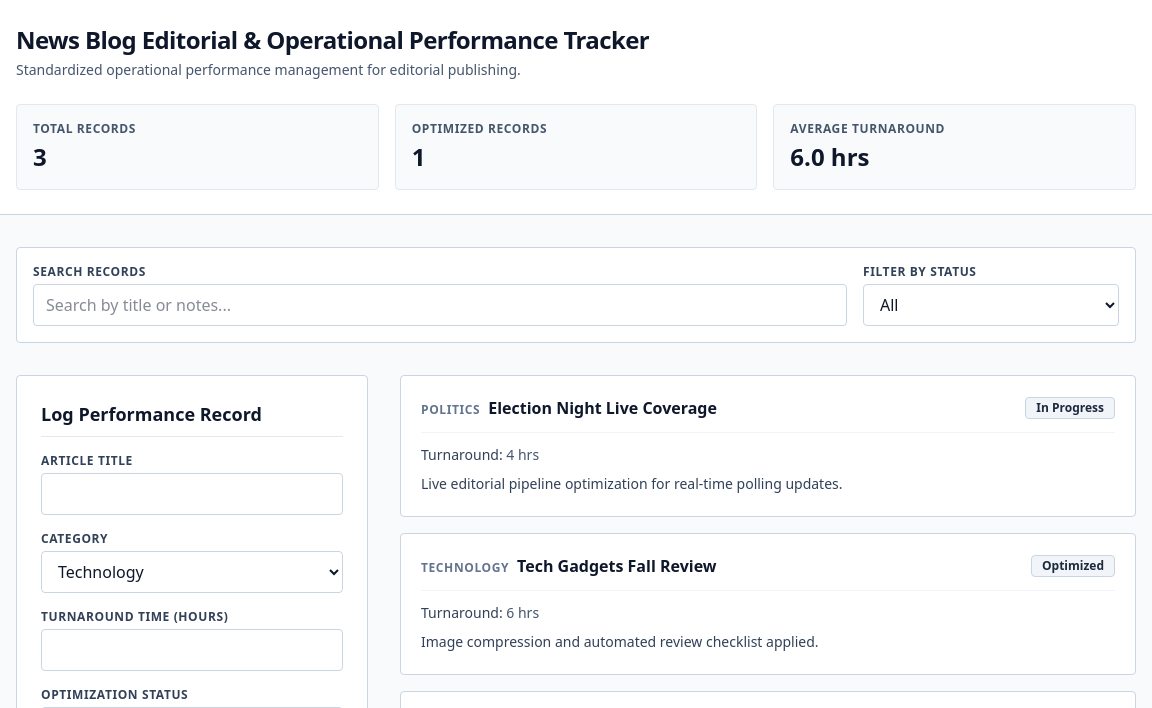
Test case: News Blog Performance Tracker Acceptance Tests › displays an accessible empty state and allows resetting filters
Type "NonExistentArticleKeyword12345" into the field labelled "Search Records" at (440, 305), box [33, 284, 847, 326]
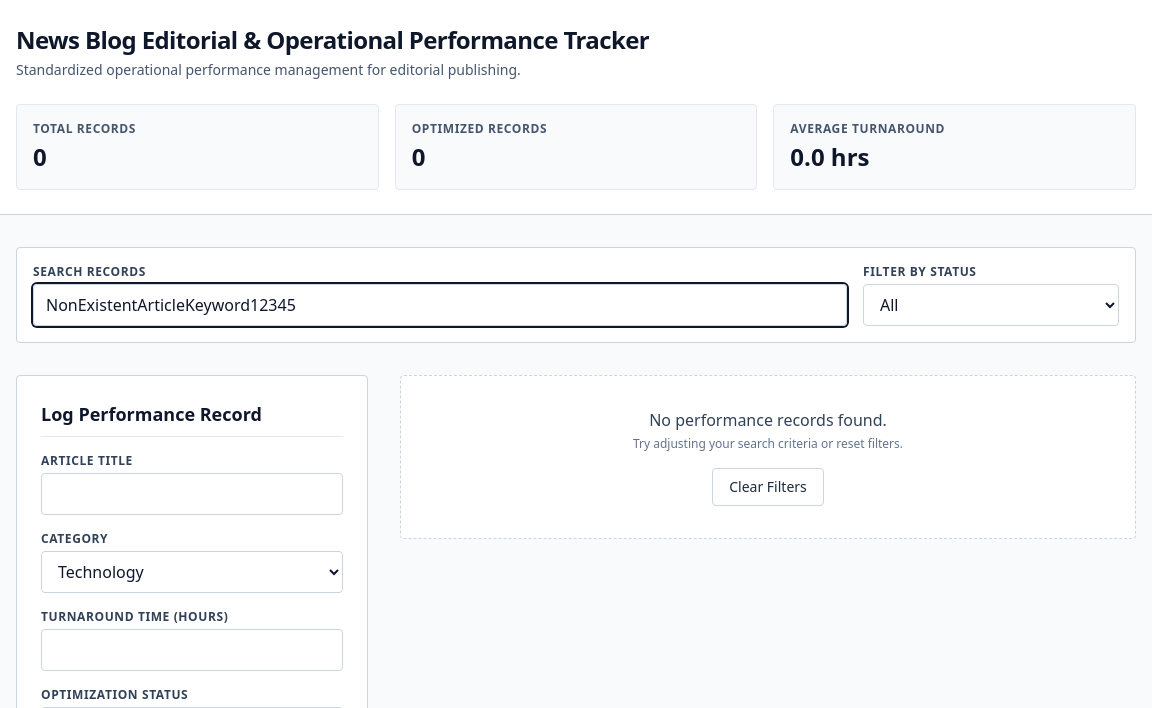
Check: the text "No performance records found." is shown, box [649, 409, 887, 431]
Check: the button "Clear Filters" is shown
Click the button "Clear Filters" at (768, 487), box [712, 468, 824, 506]
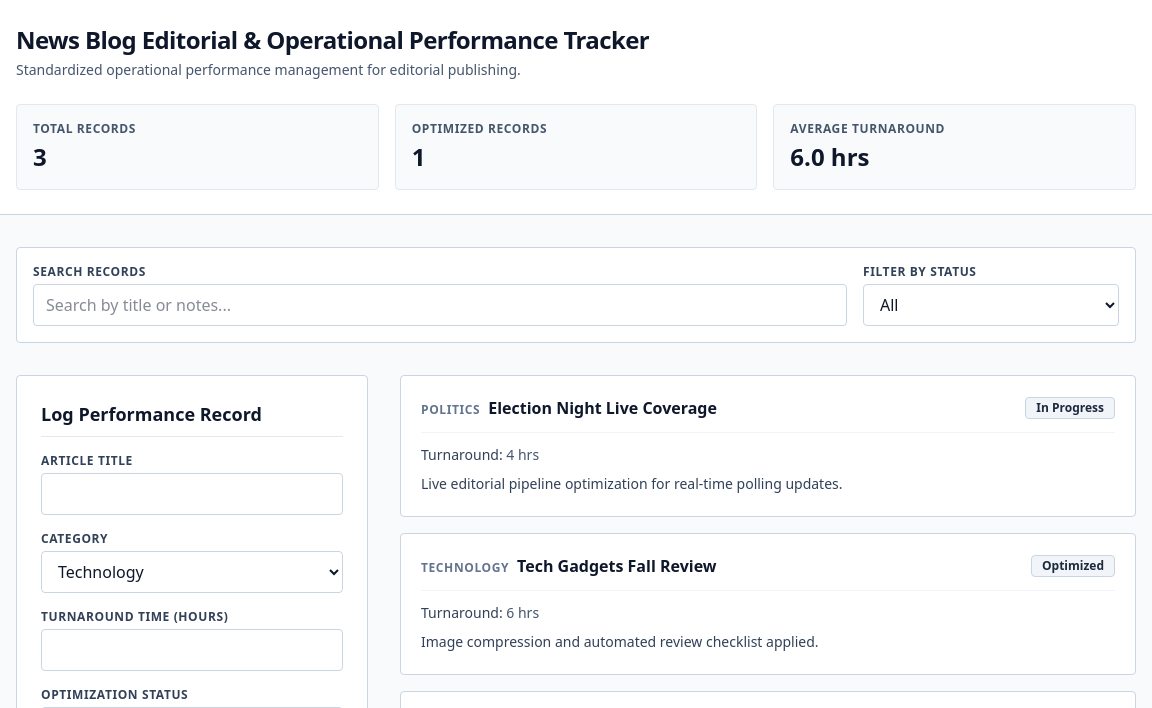
Check: the field labelled "Search Records" is empty, box [33, 284, 847, 326]
Check: the text "No performance records found" is gone
